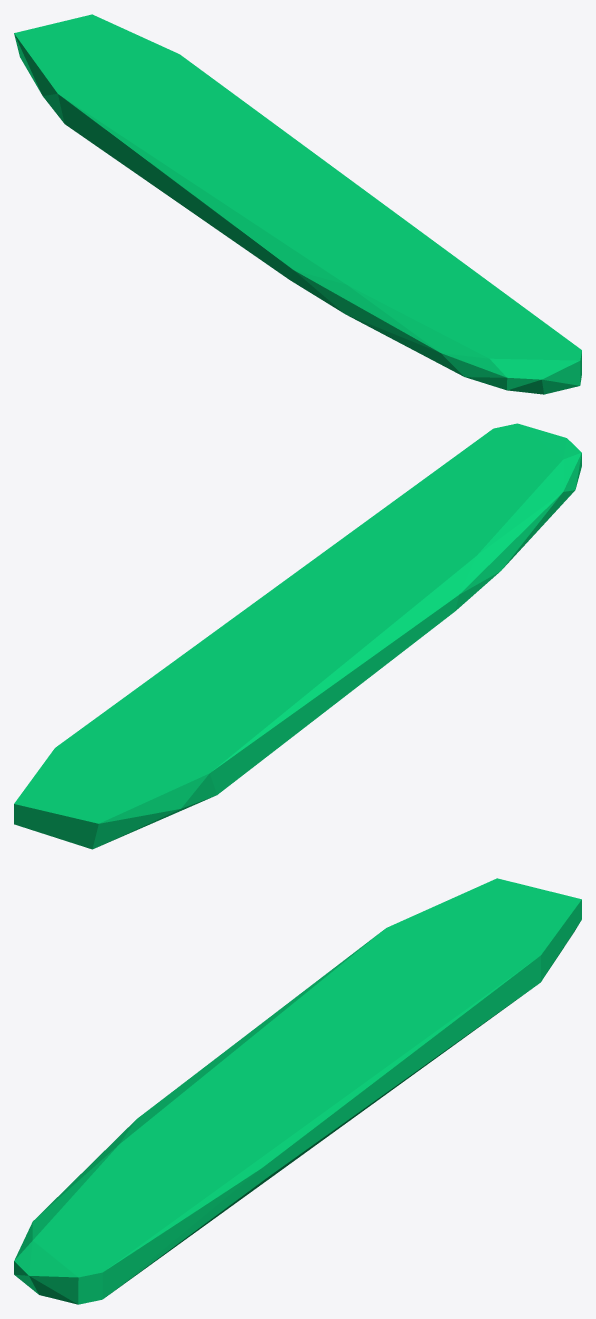
The model's file is model4_convex_piece_001.obj.
3 views of the same model, one above another, from view 1: azimuth 30°, elevation 25°; view 2: azimuth 150°, elevation 25°; view 3: azimuth 330°, elevation 25° (orthographic). The views are drawn at different scales.
Size of the model in its own units: 0.00977 by 0.00185 by 0.0602.
